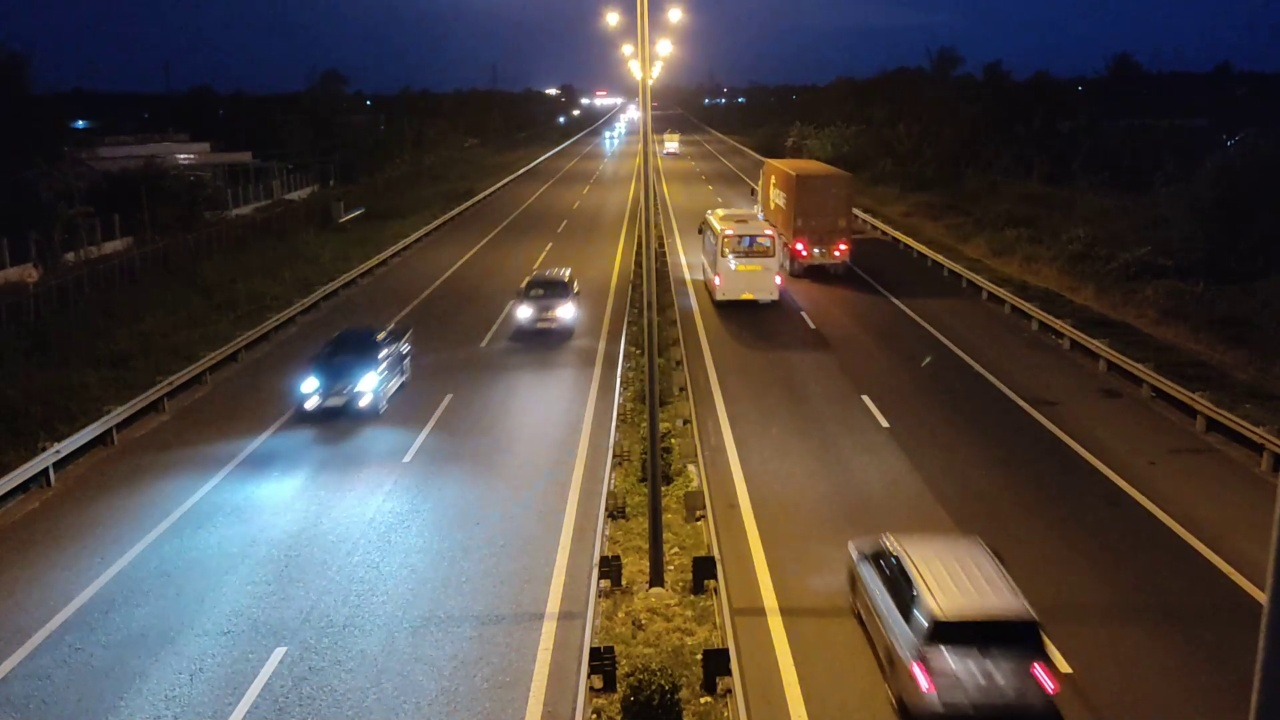bus: (695, 200, 783, 312)
car: (845, 529, 1068, 718), (293, 324, 414, 419), (509, 267, 582, 344)
truck: (755, 156, 855, 277)
